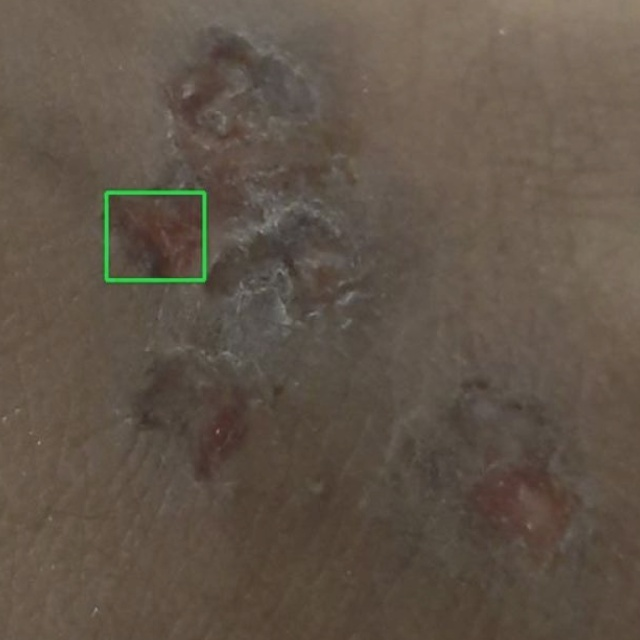Eczema: (106, 192, 204, 280)
